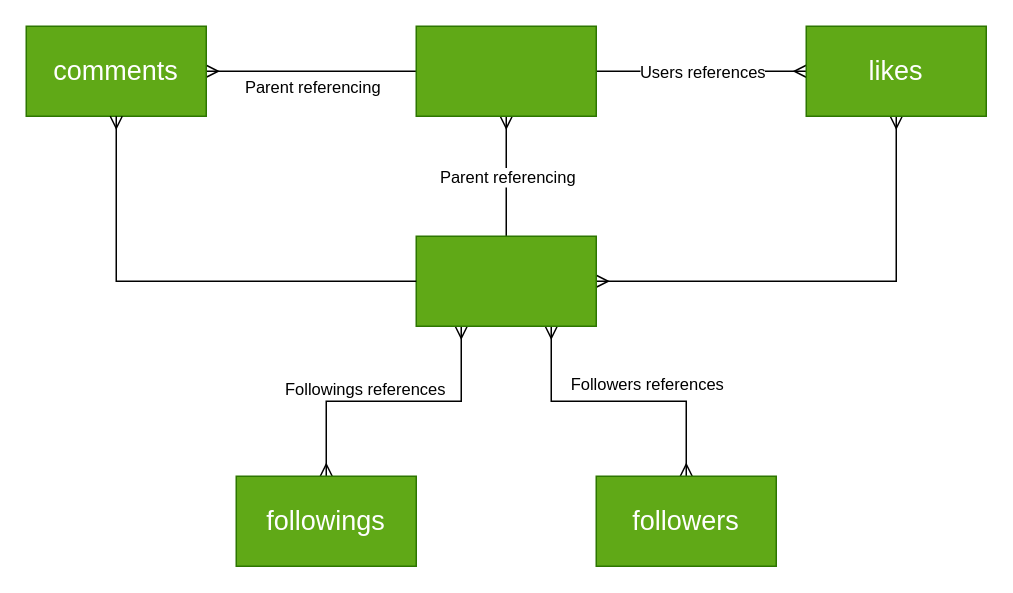
Some shapes in this 1013 by 593 pixel diagram are drawn without their labels. The centre of each missing label's shape, as x and y in pixels:
"posts" belongs at point 505,70.
"users" belongs at point 505,280.
